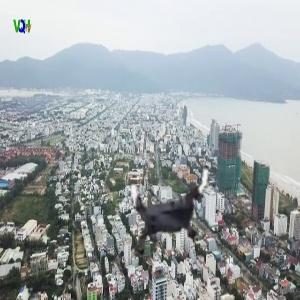drone: (119, 161, 223, 265)
